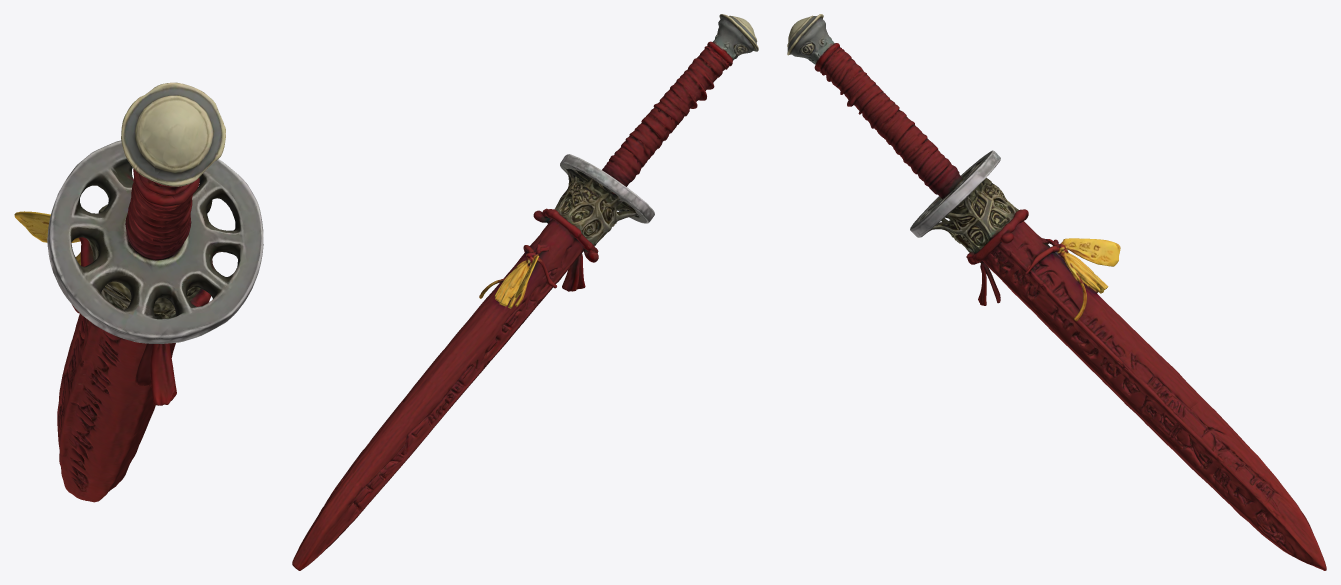
The model's file is w-taomu.glb.
3 renders of one model, left to right at view 1: azimuth 30°, elevation 25°; view 2: azimuth 150°, elevation 25°; view 3: azimuth 270°, elevation 25°, orthographic. The views are drawn at different scales.
Parts seen in each view (by area): view 1: tripo_node_71d3ebdc-8e8b-4f99-8959-d91e2efe7987; view 2: tripo_node_71d3ebdc-8e8b-4f99-8959-d91e2efe7987; view 3: tripo_node_71d3ebdc-8e8b-4f99-8959-d91e2efe7987.
Part boxes in pixels (x1,y1,x2,y2): tripo_node_71d3ebdc-8e8b-4f99-8959-d91e2efe7987: [14, 82, 263, 502]; tripo_node_71d3ebdc-8e8b-4f99-8959-d91e2efe7987: [292, 14, 758, 570]; tripo_node_71d3ebdc-8e8b-4f99-8959-d91e2efe7987: [787, 14, 1326, 570].
Size of the model in its own units: 0.5028 by 0.9123 by 0.9788.
Materials: 1 (1 with a texture image).
